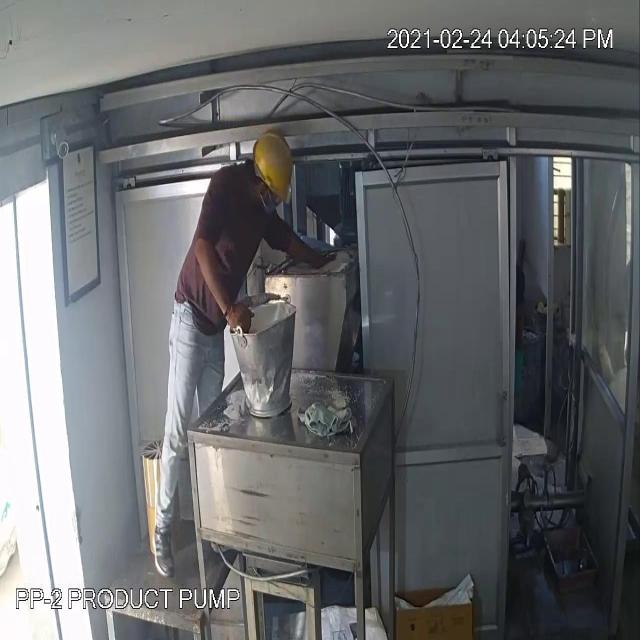helmet: (250, 124, 296, 208)
